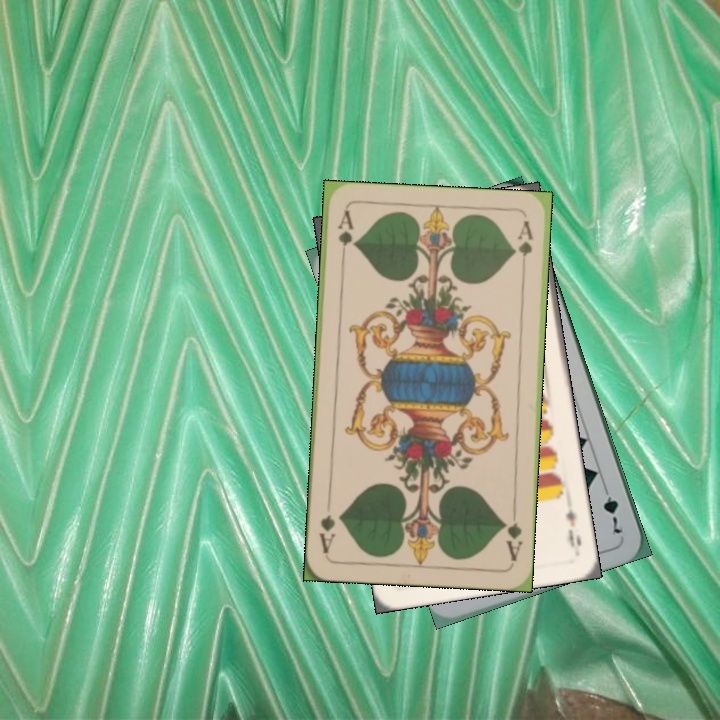E9: (562, 505, 584, 550)
G7: (598, 480, 626, 537)
GA: (499, 505, 526, 564), (334, 206, 356, 265)
